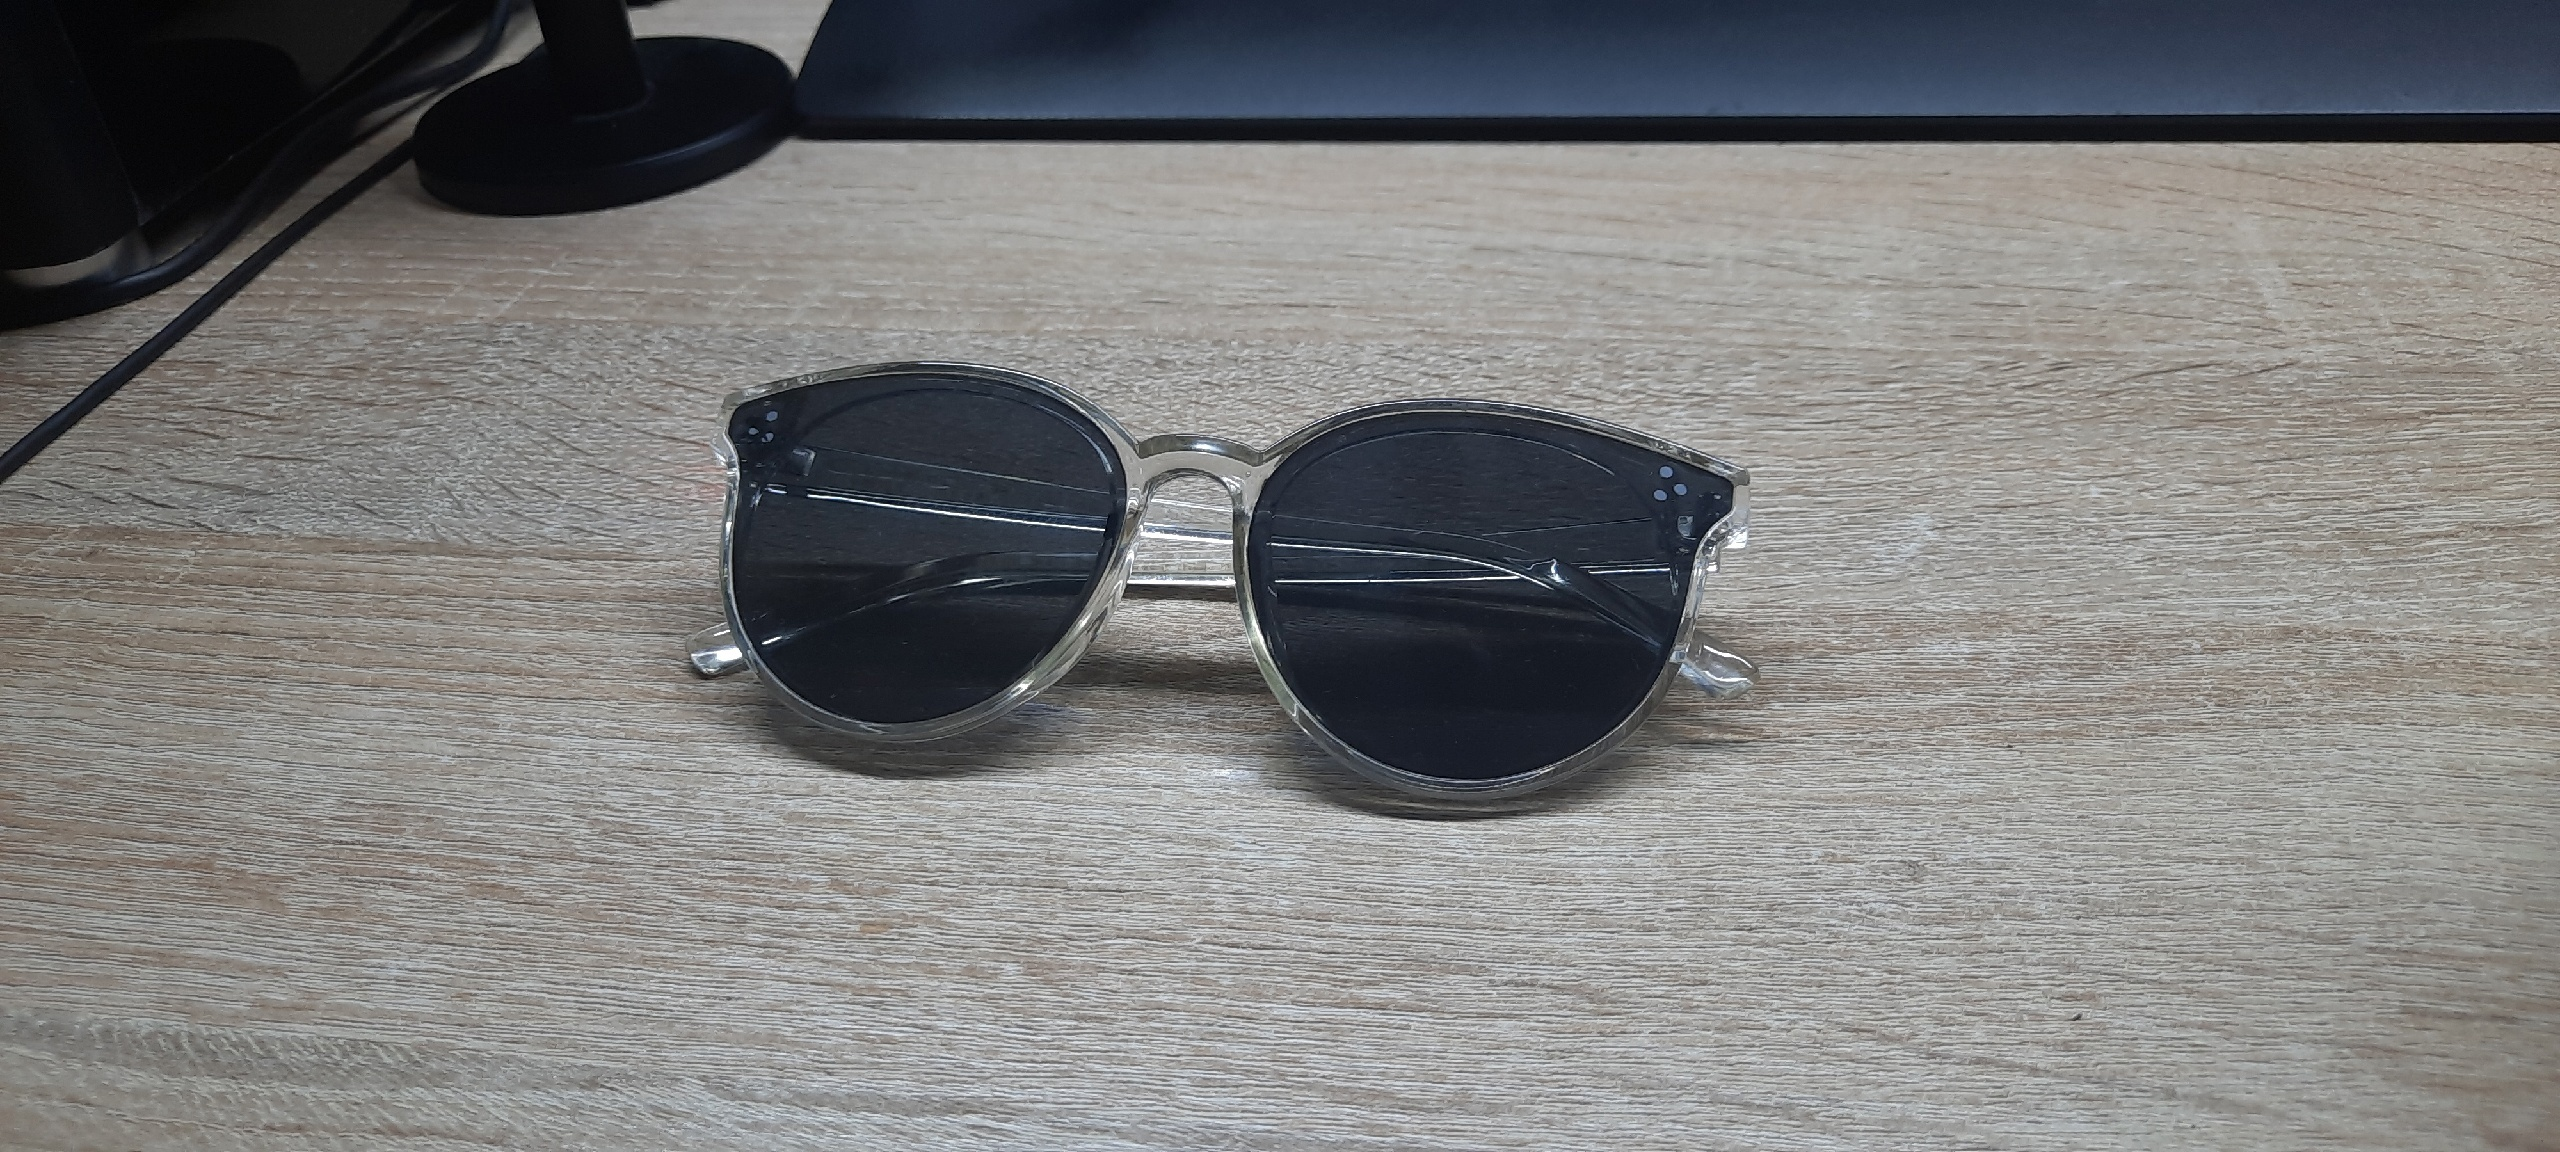glasses: (682, 372, 1765, 801)
